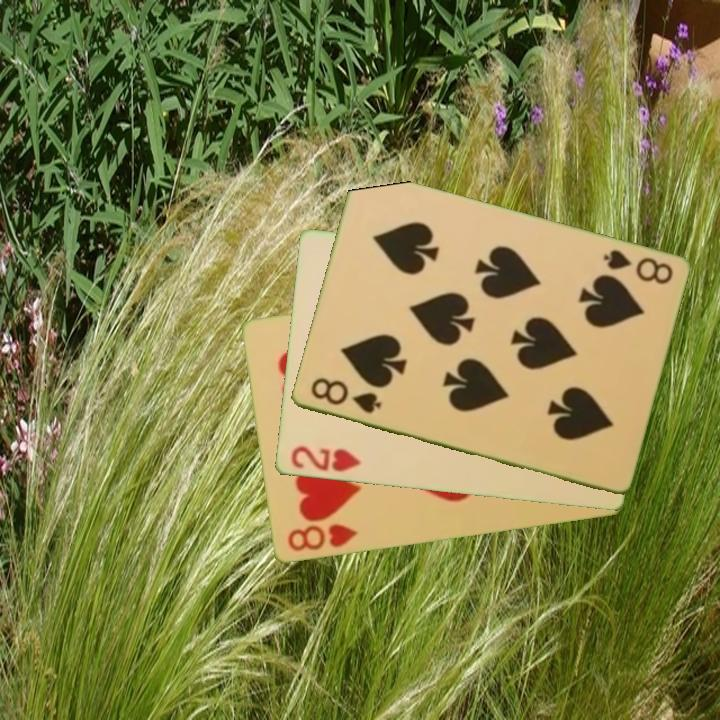2h: (287, 442, 364, 476)
8h: (283, 520, 360, 555)
8s: (307, 374, 384, 417), (599, 246, 676, 288)
